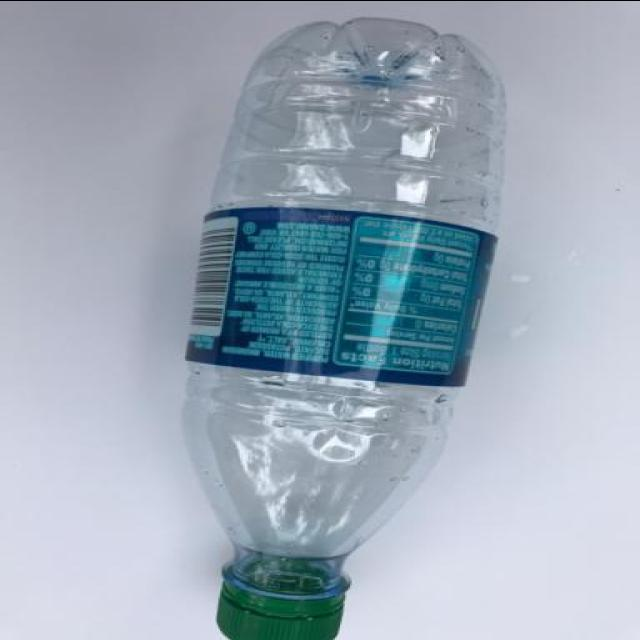PET: (176, 8, 512, 638)
